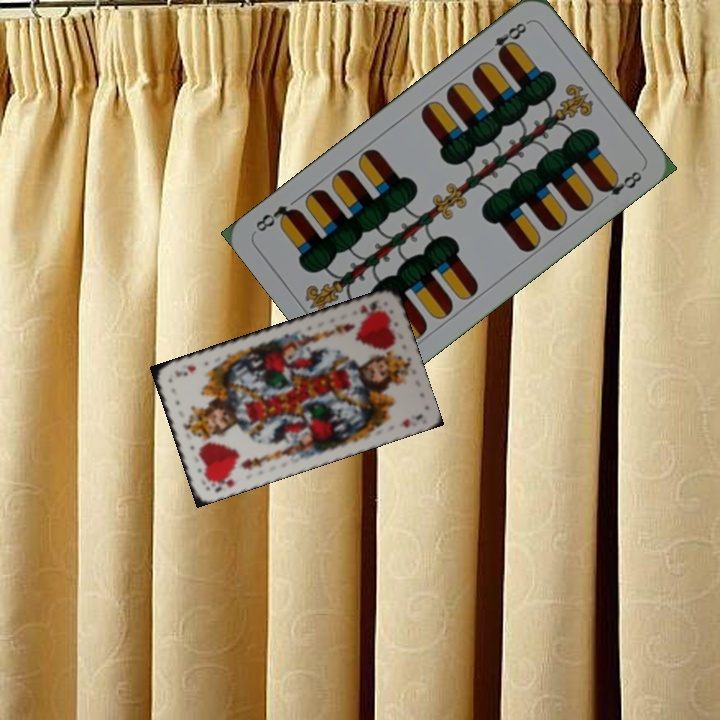E8: (480, 17, 531, 60)
HK: (204, 470, 238, 495), (356, 297, 381, 316)
